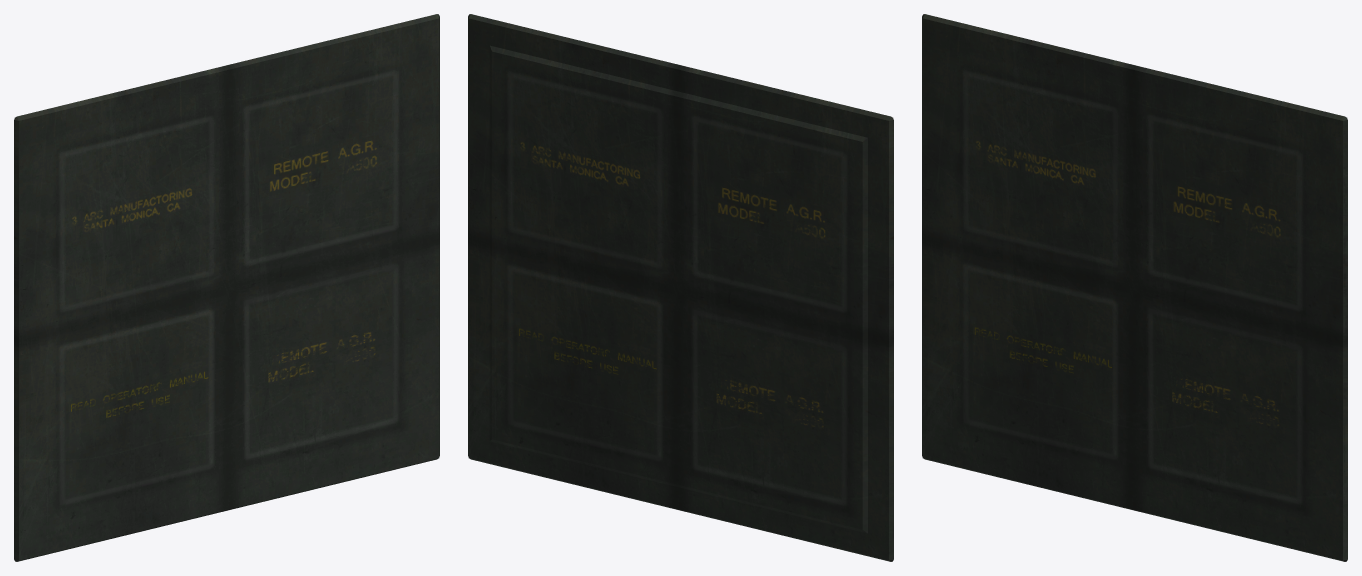
File: t6_wpn_drop_box_panel_LOD1.obj
The picture shows the model from 3 angles, left to right: view 1: azimuth 30°, elevation 25°; view 2: azimuth 150°, elevation 25°; view 3: azimuth 330°, elevation 25°; orthographic projection.
Parts seen in each view (by area): view 1: mtl_t6_wpn_drop_box; view 2: mtl_t6_wpn_drop_box; view 3: mtl_t6_wpn_drop_box.
Part boxes in pixels (x1,y1,x2,y2): mtl_t6_wpn_drop_box: (14,14,439,561); mtl_t6_wpn_drop_box: (468,14,893,561); mtl_t6_wpn_drop_box: (922,14,1347,561).
Size of the model in its own units: 120 by 120 by 2.83.
